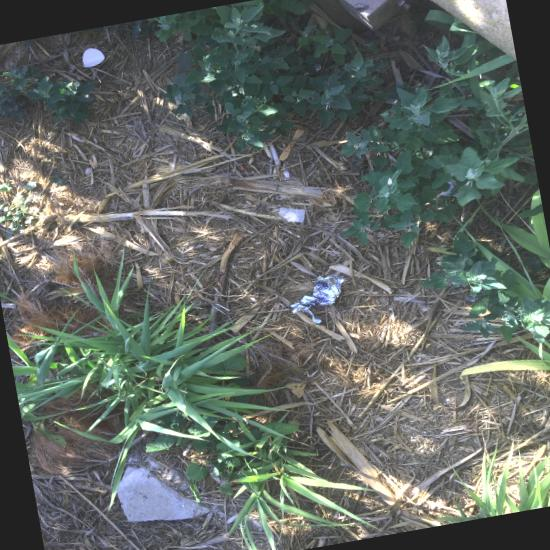Other plastic: (288, 274, 345, 323)
Other plastic bottle: (82, 47, 105, 66)
Tissues: (278, 207, 304, 222)
Unlabeled litter: (447, 281, 477, 302)
